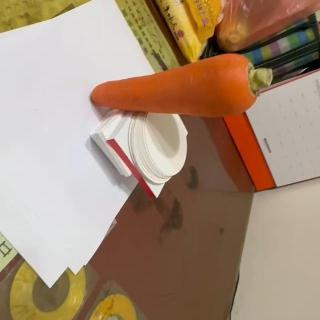carrot: (90, 51, 270, 117)
